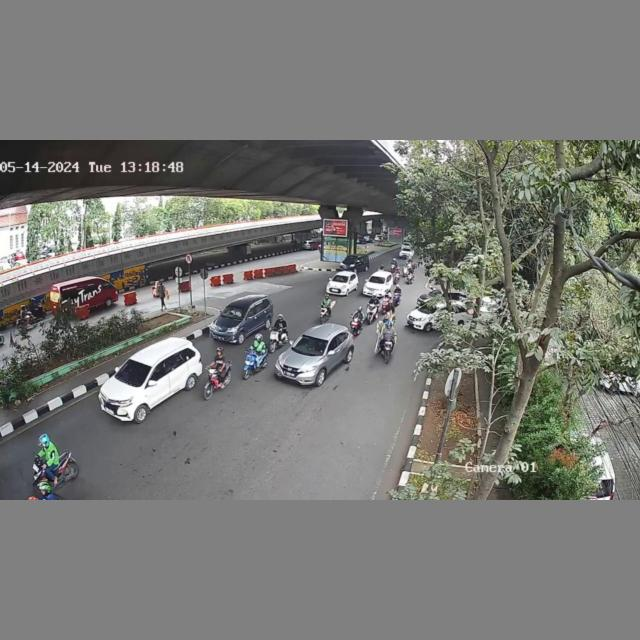windshield: (112, 357, 151, 386), (292, 334, 328, 354), (221, 305, 249, 319)
